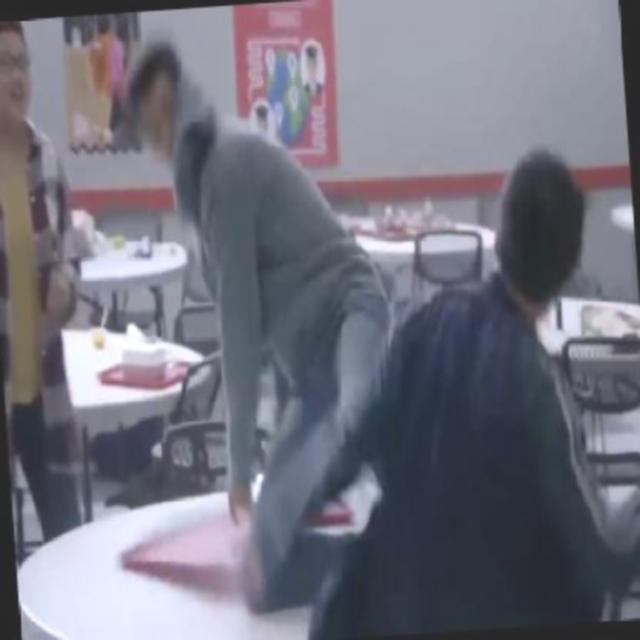non-fight: (0, 17, 109, 525)
